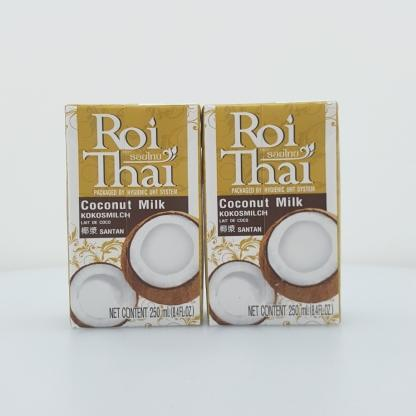-------------: (200, 100, 341, 326), (64, 103, 203, 328)
